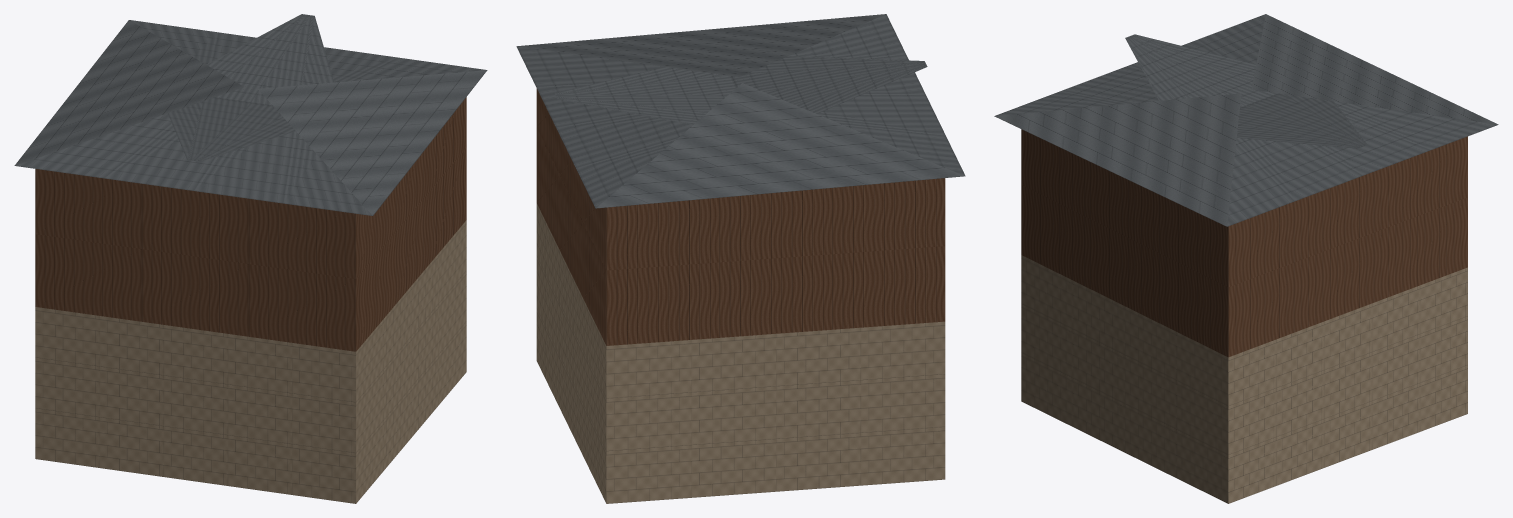
File: bld_c16_43_453.gltf
3 renders of one model, left to right at view 1: azimuth 30°, elevation 25°; view 2: azimuth 150°, elevation 25°; view 3: azimuth 270°, elevation 25°, orthographic. The views are drawn at different scales.
Parts seen in each view (by area): view 1: bld_c16_43_453; view 2: bld_c16_43_453; view 3: bld_c16_43_453.
Boxes of the visible parts, box(x1,y1,x2,y2) form: bld_c16_43_453: box(14, 14, 487, 503); bld_c16_43_453: box(516, 14, 965, 503); bld_c16_43_453: box(994, 14, 1498, 503).
Size of the model in its own units: 15.77 by 10.9 by 15.81.
3 materials, 3 textured.
